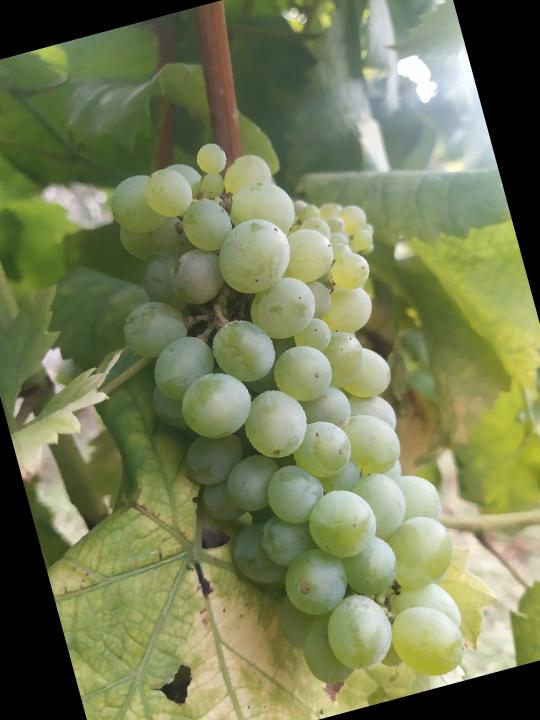grape: (79, 104, 494, 720)
